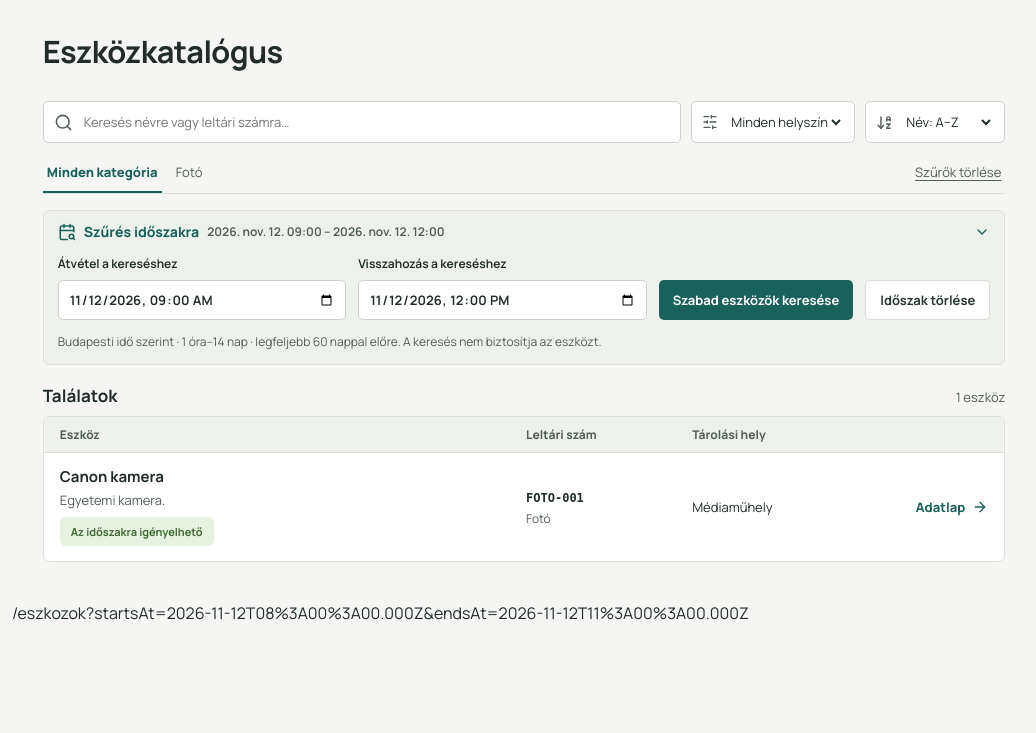
Test: időszakra szűrt katalógus › az adatlapra és az igénylőűrlapba is továbbviszi az alkalmazott időszakot
Click the link with aria-label "Canon kamera részletei" at (952, 507), box 916,498 -> 988,516
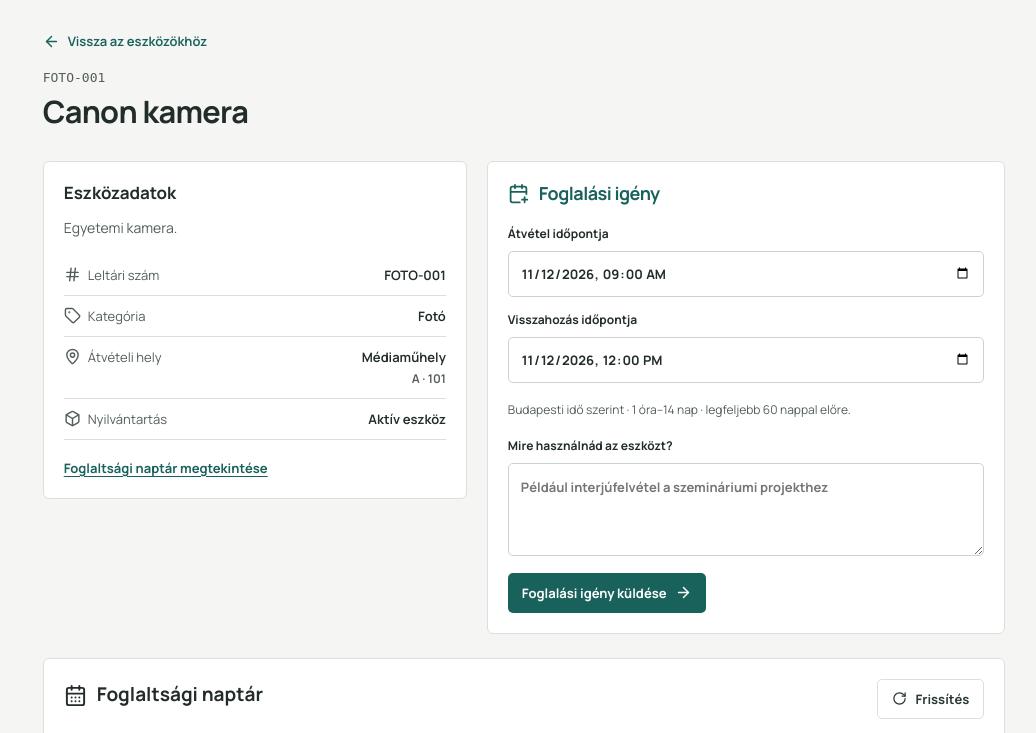
Expected: the field labelled "Átvétel időpontja" holds "2026-11-12T09:00", 508,251 -> 984,297
Result: the text box labelled "Mire használnád az eszközt?" is empty at 508,463 -> 984,556
Result: the heading "Foglaltsági naptár" is shown at 64,683 -> 263,707
